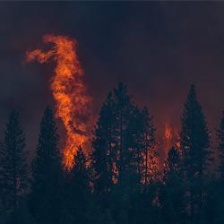fire: (36, 37, 108, 172), (140, 118, 189, 180)
